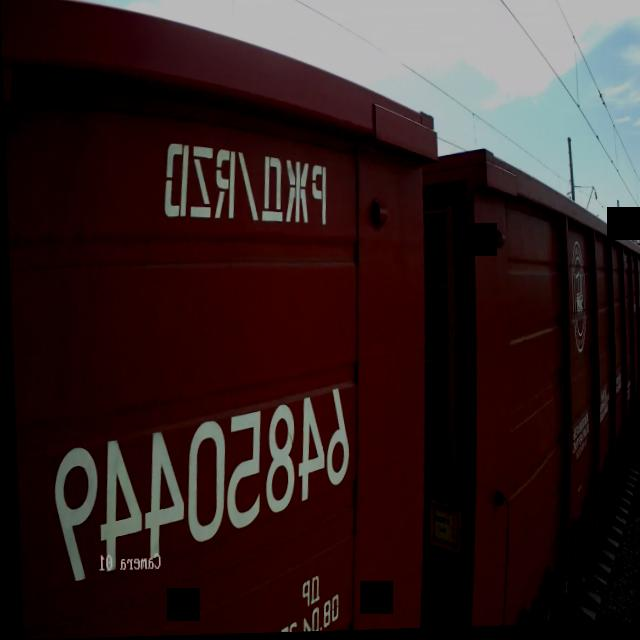gondola: (0, 0, 457, 640), (397, 141, 640, 631)
